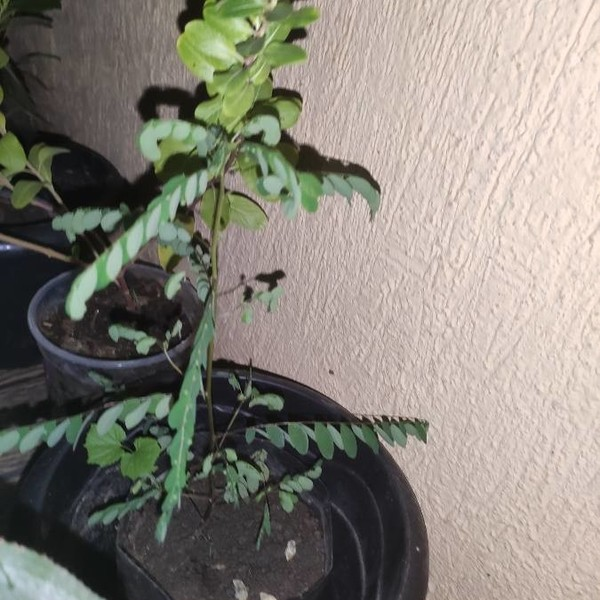obstacle: (42, 14, 418, 582)
